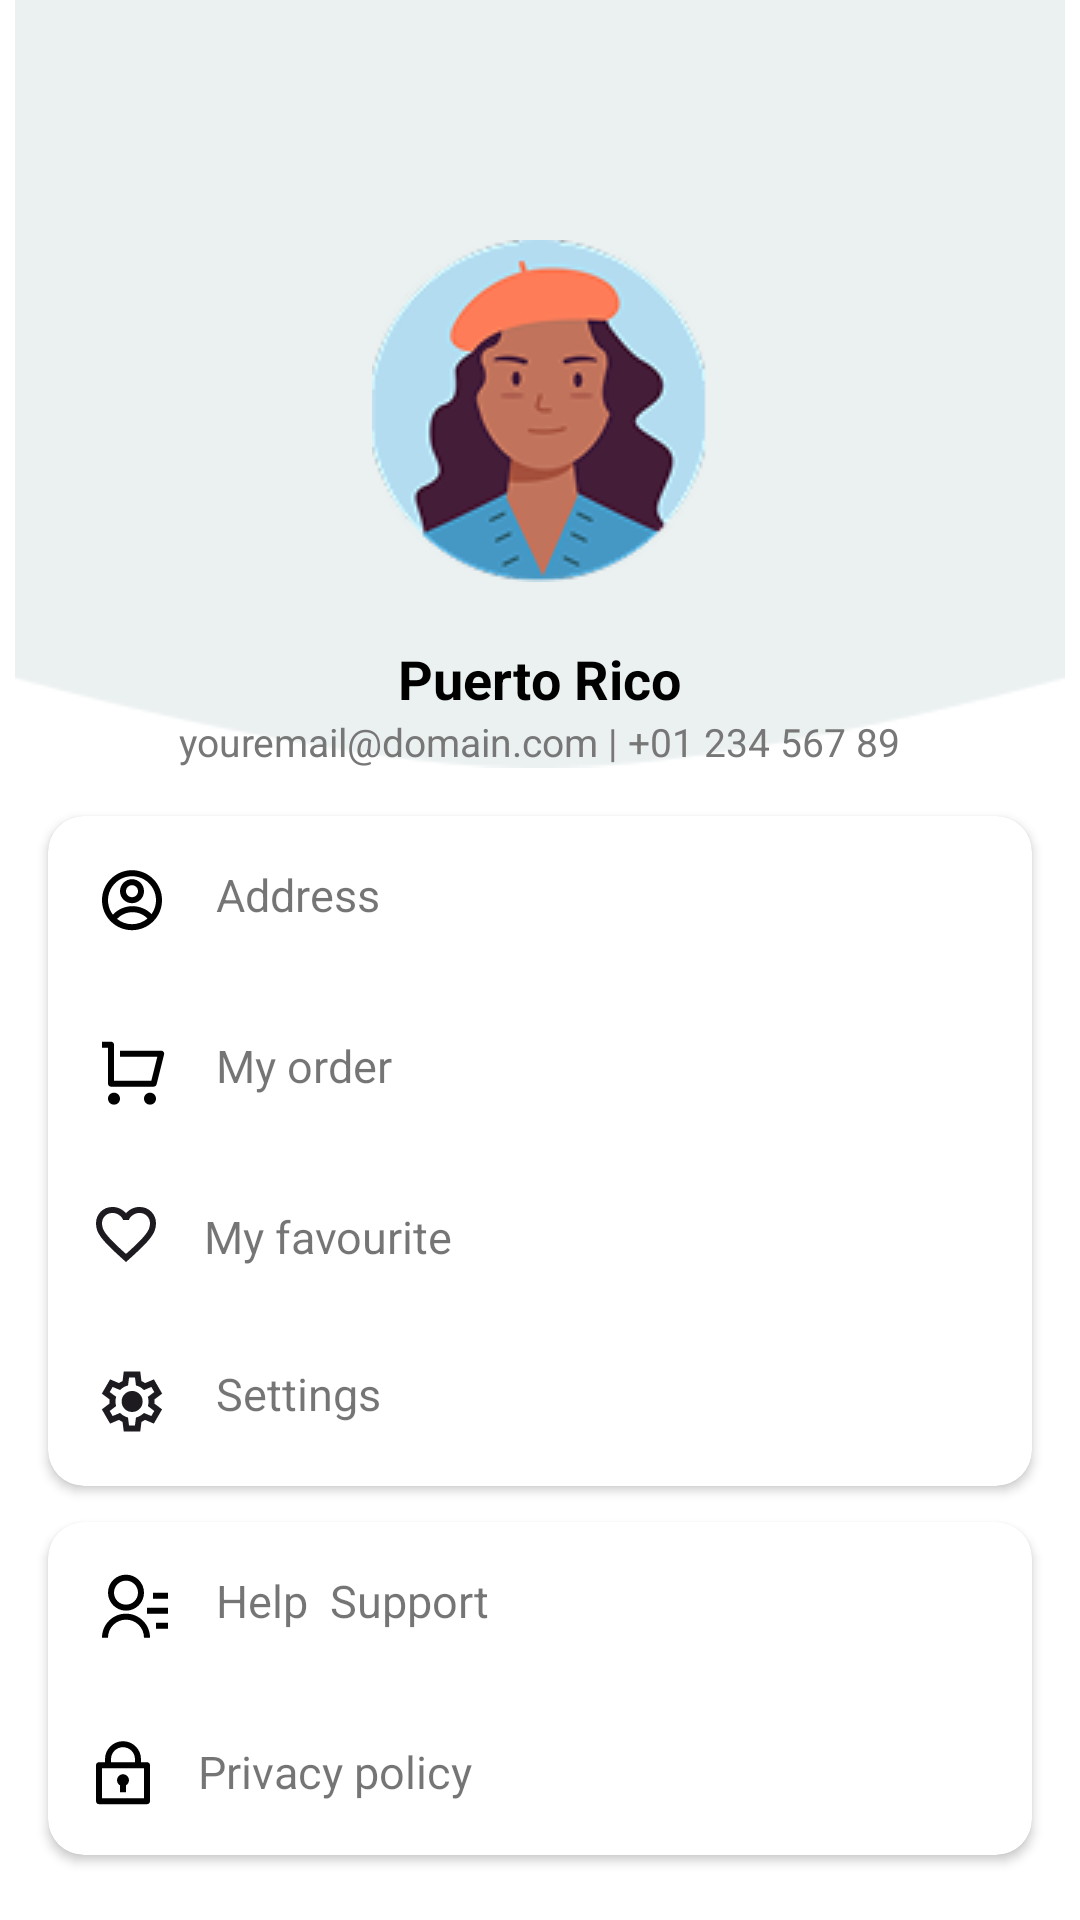

Locate icon controls on the screen. Image size 1080px x 1920px, boxes as (x1, y1, x2, y2).
profilefavicon: (96, 1207, 156, 1262)
